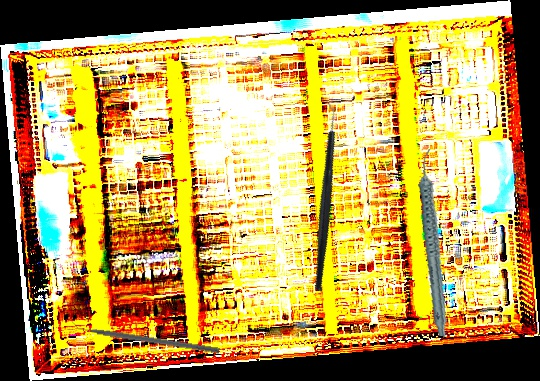Chopper: (248, 99, 397, 292), (68, 316, 222, 354)
Handpiece: (397, 147, 473, 338)
